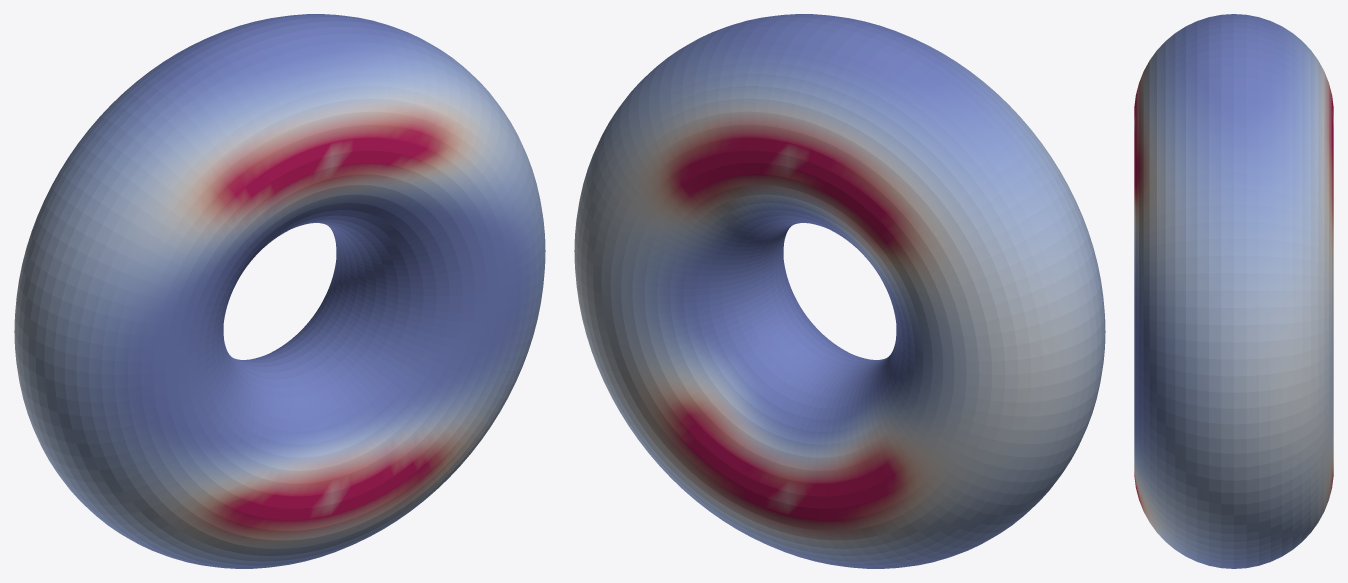
3 views of the same model, side by side, from view 1: azimuth 30°, elevation 25°; view 2: azimuth 150°, elevation 25°; view 3: azimuth 270°, elevation 25° (orthographic). The views are drawn at different scales.
Visible parts, largest first — view 1: world; view 2: world; view 3: world.
Boxes of the visible parts, x1,y1,x2,y2 form: world: [14, 14, 545, 568]; world: [574, 14, 1105, 568]; world: [1134, 14, 1333, 568].
Bounding box in the file's own units: 16.67 × 16.67 × 5.99.
